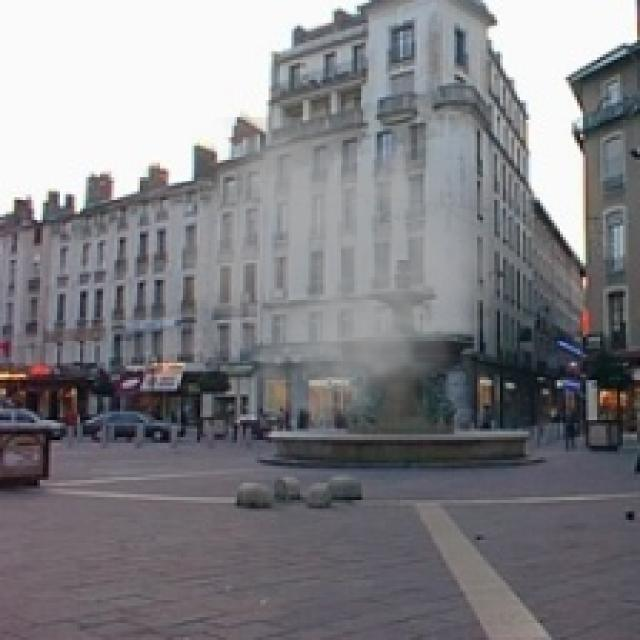smoke: (157, 117, 523, 460)
